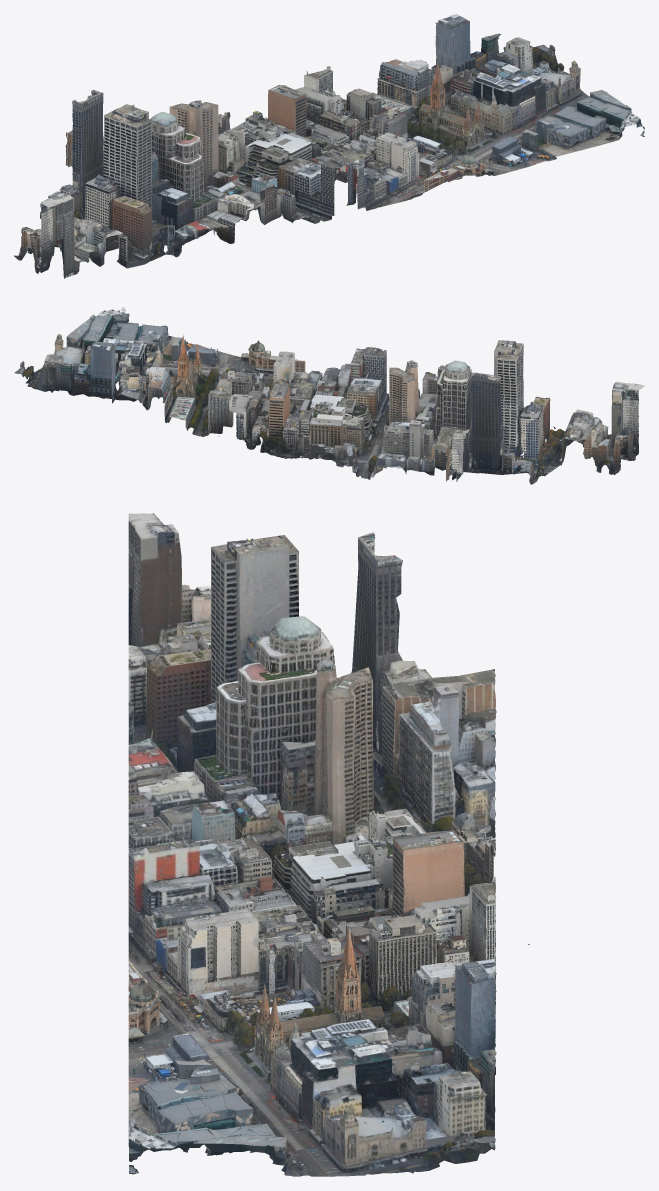
The model's file is flinders-street-context.glb.
3 renders of one model, top to bottom at view 1: azimuth 30°, elevation 25°; view 2: azimuth 150°, elevation 25°; view 3: azimuth 270°, elevation 25°, orthographic. The views are drawn at different scales.
Parts seen in each view (by area): view 1: I3S 90514, I3S 179837, I3S 178250, I3S 200263, I3S 184574, I3S 175192, I3S 199207, I3S 195376, I3S 195863, I3S 198245, I3S 91663, I3S 197245 (+6 smaller); view 2: I3S 184574, I3S 175192, I3S 90514, I3S 179837, I3S 198245, I3S 198528, I3S 200263, I3S 194695, I3S 195863, I3S 197245, I3S 195376, I3S 91663 (+6 smaller); view 3: I3S 184574, I3S 90514, I3S 178250, I3S 179837, I3S 200263, I3S 194695, I3S 199207, I3S 196148, I3S 196740, I3S 198687, I3S 91663, I3S 198245 (+6 smaller).
Boxes of the visible parts, x1,y1,x2,y2 form: I3S 90514: [428, 14, 611, 145]; I3S 179837: [14, 114, 169, 278]; I3S 178250: [133, 110, 287, 257]; I3S 200263: [258, 153, 405, 223]; I3S 184574: [65, 89, 251, 194]; I3S 175192: [40, 93, 136, 222]; I3S 199207: [372, 133, 465, 200]; I3S 195376: [407, 62, 491, 156]; I3S 195863: [372, 58, 455, 127]; I3S 198245: [261, 75, 340, 139]; I3S 91663: [554, 95, 644, 149]; I3S 197245: [219, 128, 309, 189]; I3S 184574: [336, 343, 507, 481]; I3S 175192: [474, 343, 561, 484]; I3S 90514: [14, 329, 177, 403]; I3S 179837: [507, 341, 644, 474]; I3S 198245: [218, 383, 314, 457]; I3S 198528: [283, 403, 367, 464]; I3S 200263: [294, 347, 429, 425]; I3S 194695: [175, 377, 260, 436]; I3S 195863: [121, 367, 207, 422]; I3S 197245: [313, 386, 389, 449]; I3S 195376: [170, 334, 218, 409]; I3S 91663: [75, 307, 154, 342]; I3S 184574: [246, 539, 496, 856]; I3S 90514: [246, 958, 496, 1176]; I3S 178250: [128, 543, 253, 840]; I3S 179837: [128, 513, 252, 752]; I3S 200263: [128, 801, 253, 975]; I3S 194695: [367, 876, 496, 1022]; I3S 199207: [128, 909, 253, 1024]; I3S 196148: [247, 911, 374, 1019]; I3S 196740: [246, 864, 374, 939]; I3S 198687: [128, 977, 251, 1074]; I3S 91663: [128, 1092, 251, 1174]; I3S 198245: [367, 830, 529, 950].
Bounding box in the file's own units: 804 × 166 × 259.
Materials: 18 (18 with a texture image).
